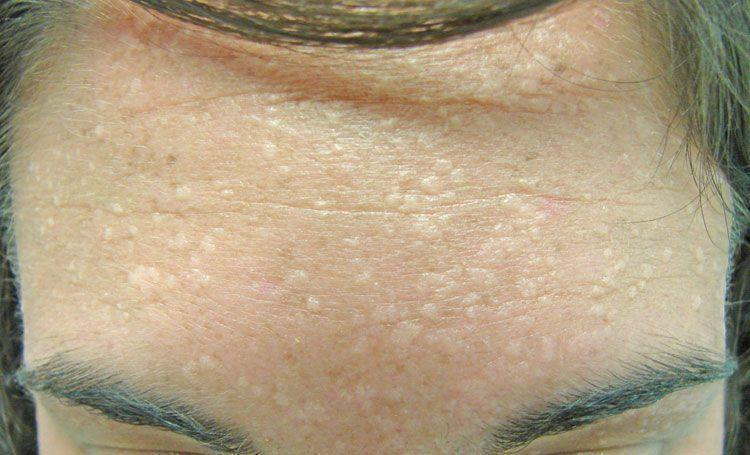flat_wart: (354, 287, 487, 364), (101, 217, 222, 300), (476, 170, 556, 258), (578, 243, 682, 306), (413, 255, 505, 324), (193, 353, 298, 413), (381, 155, 471, 221), (503, 55, 578, 122), (269, 256, 330, 320), (513, 257, 579, 309), (332, 225, 383, 292), (250, 138, 304, 190)
